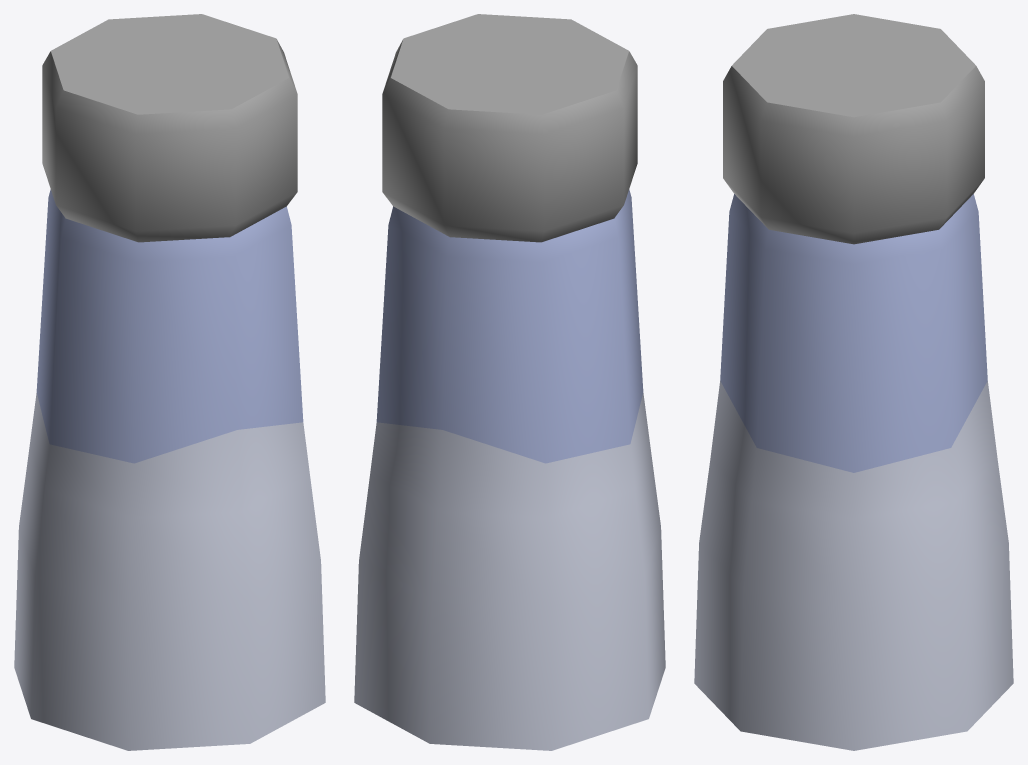
File: VillagerSalt.fbx
The picture shows the model from 3 angles, left to right: view 1: azimuth 30°, elevation 25°; view 2: azimuth 150°, elevation 25°; view 3: azimuth 270°, elevation 25°; orthographic projection.
Visible parts, largest first — view 1: VillagerSalt; view 2: VillagerSalt; view 3: VillagerSalt.
Boxes of the visible parts, x1,y1,x2,y2 form: VillagerSalt: (14,14,325,750); VillagerSalt: (354,14,665,750); VillagerSalt: (694,14,1013,750).
Size of the model in its own units: 7.87 by 16.79 by 7.87.
